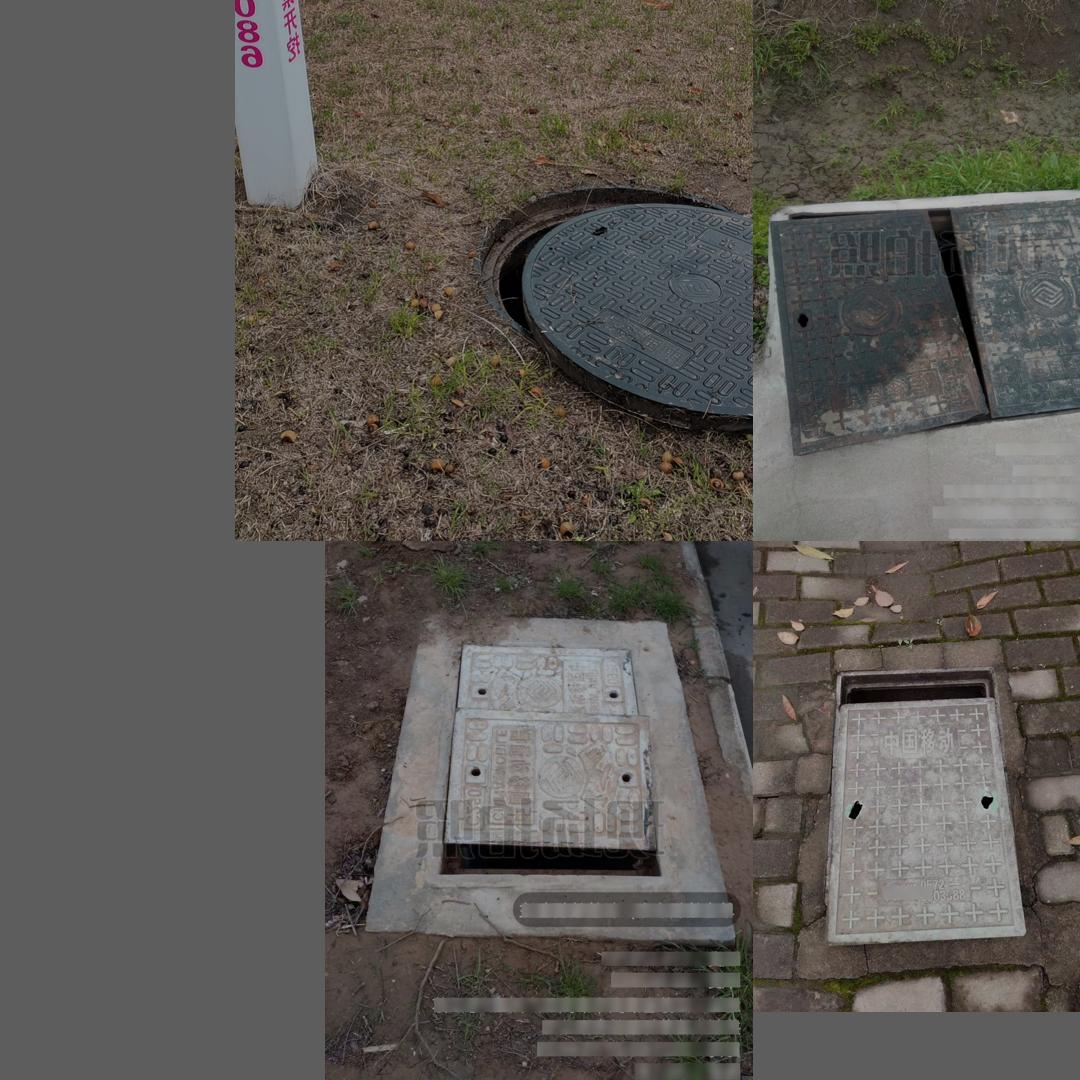uncovered: (757, 188, 1080, 469), (485, 184, 747, 430), (424, 641, 662, 889), (825, 666, 1025, 945)
